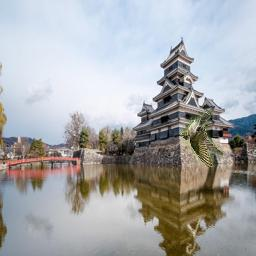Swallow: (181, 109, 224, 167)
